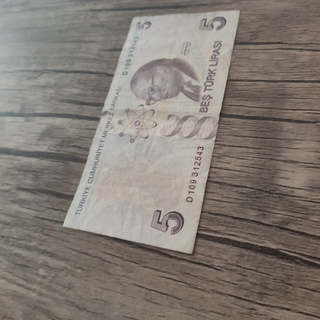5TLBack: (61, 8, 241, 255)
